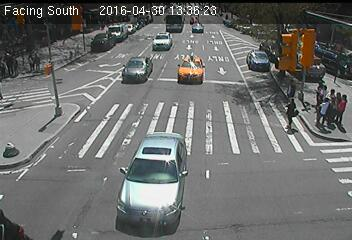neg: (223, 115, 253, 154), (174, 105, 198, 138), (40, 100, 63, 130), (119, 124, 141, 154), (142, 62, 162, 89), (33, 144, 52, 170), (279, 175, 297, 199), (228, 48, 246, 71), (122, 190, 140, 213), (94, 76, 111, 99), (165, 184, 182, 207), (185, 56, 202, 78), (282, 31, 298, 52), (238, 176, 253, 195)
pos: (280, 95, 305, 129), (316, 97, 336, 124)
